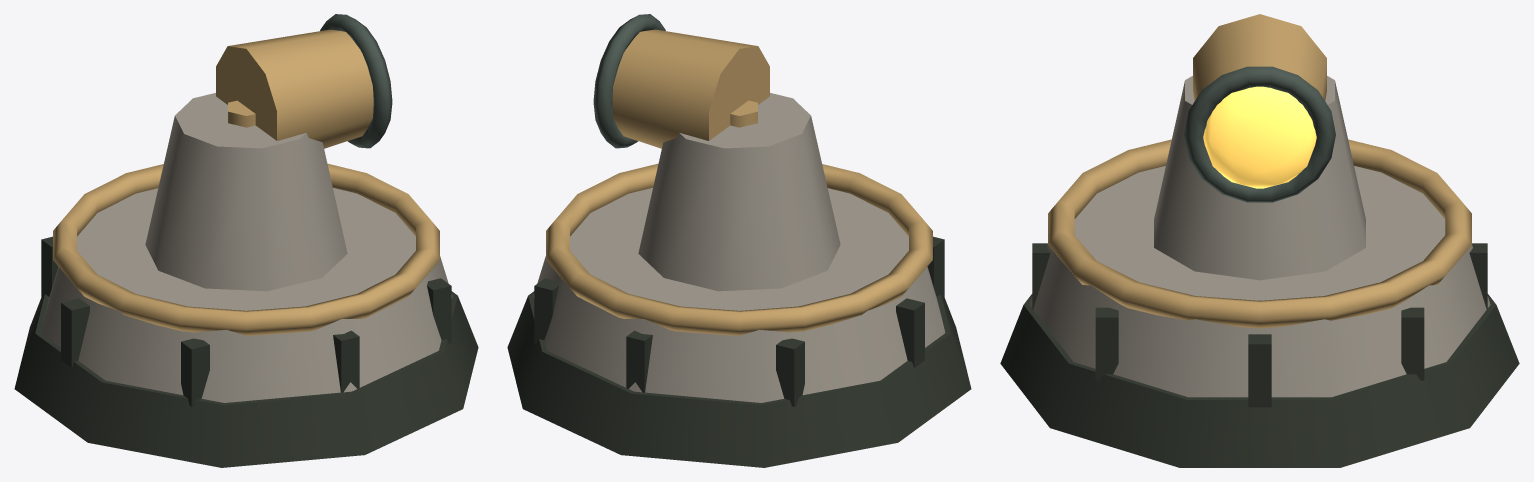
The model's file is tower_laser.glb.
The picture shows the model from 3 angles, left to right: view 1: azimuth 30°, elevation 25°; view 2: azimuth 150°, elevation 25°; view 3: azimuth 270°, elevation 25°; orthographic projection. The views are drawn at different scales.
Parts seen in each view (by area): view 1: stone_1, foot_0, column_11, rim_2, lens_housing_13, focus_ring_14, mortar_6, mortar_7, mortar_5, mortar_4, mortar_8, lens_arm_12; view 2: stone_1, foot_0, column_11, rim_2, lens_housing_13, focus_ring_14, mortar_8, mortar_7, mortar_9, mortar_10, mortar_6, lens_arm_12; view 3: stone_1, foot_0, column_11, rim_2, lens_glass_15, focus_ring_14, lens_housing_13, mortar_3, mortar_4, mortar_10, mortar_5, mortar_9.
Boxes of the visible parts, bbox=[...] form: stone_1: bbox=[40, 187, 452, 402]; foot_0: bbox=[14, 291, 478, 467]; column_11: bbox=[145, 93, 347, 291]; rim_2: bbox=[53, 163, 439, 335]; lens_housing_13: bbox=[216, 29, 373, 148]; focus_ring_14: bbox=[320, 14, 392, 148]; mortar_6: bbox=[181, 338, 209, 406]; mortar_7: bbox=[61, 298, 89, 367]; mortar_5: bbox=[333, 330, 359, 392]; mortar_4: bbox=[427, 278, 451, 343]; mortar_8: bbox=[41, 236, 58, 297]; lens_arm_12: bbox=[228, 100, 255, 127]; stone_1: bbox=[533, 187, 945, 402]; foot_0: bbox=[507, 291, 971, 467]; column_11: bbox=[638, 93, 840, 291]; rim_2: bbox=[546, 163, 932, 335]; lens_housing_13: bbox=[612, 29, 769, 148]; focus_ring_14: bbox=[593, 14, 665, 148]; mortar_8: bbox=[776, 338, 804, 406]; mortar_7: bbox=[896, 298, 924, 367]; mortar_9: bbox=[626, 330, 652, 392]; mortar_10: bbox=[534, 278, 558, 343]; mortar_6: bbox=[927, 236, 944, 297]; lens_arm_12: bbox=[730, 100, 757, 127]; stone_1: bbox=[1029, 166, 1490, 397]; foot_0: bbox=[1000, 294, 1519, 467]; column_11: bbox=[1154, 76, 1365, 280]; rim_2: bbox=[1048, 139, 1471, 328]; lens_glass_15: bbox=[1203, 86, 1316, 188]; focus_ring_14: bbox=[1184, 66, 1335, 202]; lens_housing_13: bbox=[1193, 14, 1326, 120]; mortar_3: bbox=[1248, 334, 1271, 407]; mortar_4: bbox=[1095, 307, 1118, 380]; mortar_10: bbox=[1401, 307, 1424, 380]; mortar_5: bbox=[1032, 243, 1050, 309]; mortar_9: bbox=[1469, 243, 1487, 309].
Bounding box in the file's own units: 0.5326 × 0.4208 × 0.56.
